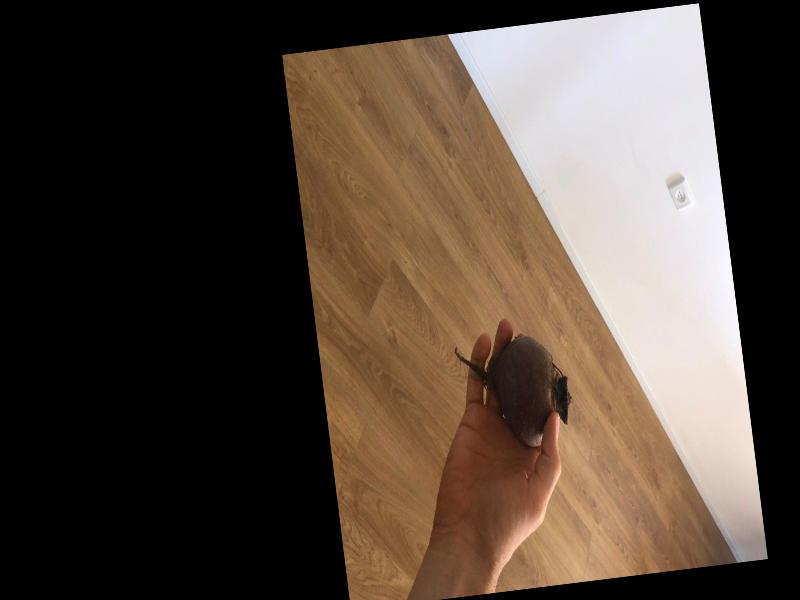Beet: (453, 328, 574, 454)
